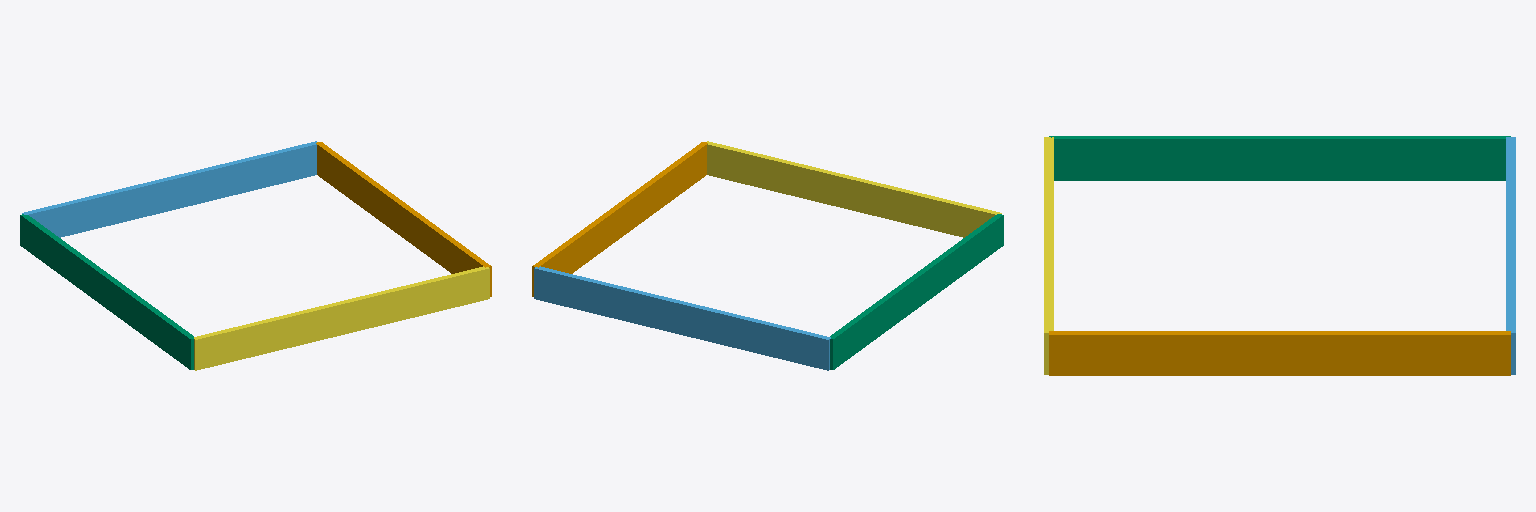
The robot description file, URDF, robot "wall.urdf":
<?xml version="0.0" ?>
<robot name="wall.urdf">
   <link name="south_wall">
    <contact>
      <lateral_friction value="1.0"/>
      <spinning_friction value="1.0"/>
    </contact>
    <inertial>
      <origin rpy="0 0 0" xyz="0 0 0"/>
      <mass value="0.0"/>
      <inertia ixx="0" ixy="0" ixz="0" iyy="0" iyz="0" izz="0"/>
    </inertial>
    <visual>
      <origin rpy="0 0 0" xyz="5.0 0.0 0.5"/>
      <geometry>
        <box size="0.2 10 1"/>
      </geometry>
      <material name="blockmat">
      </material>
    </visual>
    <collision>
      <origin rpy="0 0 0" xyz="5.0 0.0 0.5"/>
      <geometry>
        <box size="0.2 10 1"/>
      </geometry>
    </collision>
  </link>

  <joint name="south_east_joint" type="fixed">
    <parent link="south_wall"/>
    <child link="east_wall"/>
  </joint>

  <link name="east_wall">
    <contact>
      <lateral_friction value="1.0"/>
      <spinning_friction value="1.0"/>
    </contact>
    <inertial>
      <origin rpy="0 0 0" xyz="0 0 0"/>
      <mass value="0.0"/>
      <inertia ixx="0" ixy="0" ixz="0" iyy="0" iyz="0" izz="0"/>
    </inertial>
    <visual>
      <origin rpy="0 0 0" xyz="0.0 5.0 0.5"/>
      <geometry>
        <box size="10 0.2 1"/>
      </geometry>
      <material name="blockmat">
      </material>
    </visual>
    <collision>
      <origin rpy="0 0 0" xyz="0.0 5.0 0.5"/>
      <geometry>
        <box size="10 0.2 1"/>
      </geometry>
    </collision>
  </link>

  <joint name="east_north_joint" type="fixed">
    <parent link="east_wall"/>
    <child link="north_wall"/>
  </joint>

  <link name="north_wall">
    <contact>
      <lateral_friction value="1.0"/>
      <spinning_friction value="1.0"/>
    </contact>
    <inertial>
      <origin rpy="0 0 0" xyz="0 0 0"/>
      <mass value="0.0"/>
      <inertia ixx="0" ixy="0" ixz="0" iyy="0" iyz="0" izz="0"/>
    </inertial>
    <visual>
      <origin rpy="0 0 0" xyz="-5.0 0.0 0.5"/>
      <geometry>
        <box size="0.2 10 1"/>
      </geometry>
      <material name="blockmat">
      </material>
    </visual>
    <collision>
      <origin rpy="0 0 0" xyz="-5.0 0.0 0.5"/>
      <geometry>
        <box size="0.2 10 1"/>
      </geometry>
    </collision>
  </link>

  <joint name="north_west_joint" type="fixed">
    <parent link="north_wall"/>
    <child link="west_wall"/>
  </joint>

  <link name="west_wall">
    <contact>
      <lateral_friction value="1.0"/>
      <spinning_friction value="1.0"/>
    </contact>
    <inertial>
      <origin rpy="0 0 0" xyz="0 0 0"/>
      <mass value="0.0"/>
      <inertia ixx="0" ixy="0" ixz="0" iyy="0" iyz="0" izz="0"/>
    </inertial>
    <visual>
      <origin rpy="0 0 0" xyz="0.0 -5.0 0.5"/>
      <geometry>
        <box size="10 0.2 1"/>
      </geometry>
      <material name="blockmat">
      </material>
    </visual>
    <collision>
      <origin rpy="0 0 0" xyz="0.0 -5.0 0.5"/>
      <geometry>
        <box size="10 0.2 1"/>
      </geometry>
    </collision>
  </link>

</robot>

--- Render facts (derived) ---
Views: 3 orthographic renders of the robot side by side, from view 1: azimuth 30°, elevation 25°; view 2: azimuth 150°, elevation 25°; view 3: azimuth 270°, elevation 25°.
Robot: wall.urdf — 4 links, 3 joints (3 fixed); root link south_wall; default pose: every joint at zero.
Visible links, largest first — view 1: west_wall, east_wall, north_wall, south_wall; view 2: east_wall, west_wall, north_wall, south_wall; view 3: south_wall, north_wall, east_wall, west_wall.
Boxes of the visible links, <box> form: west_wall: <box>194,266,489,370</box>; east_wall: <box>22,141,316,237</box>; north_wall: <box>20,214,193,369</box>; south_wall: <box>316,142,491,296</box>; east_wall: <box>534,266,830,370</box>; west_wall: <box>707,141,1001,237</box>; north_wall: <box>830,214,1003,369</box>; south_wall: <box>532,142,707,296</box>; south_wall: <box>1049,331,1510,375</box>; north_wall: <box>1049,136,1510,180</box>; east_wall: <box>1506,137,1515,374</box>; west_wall: <box>1044,137,1053,374</box>.
Bounding box of the posed robot: 10.2 × 10.2 × 1 m (x, y, z).
Geometry: primitives only (box / cylinder / sphere), no mesh files.